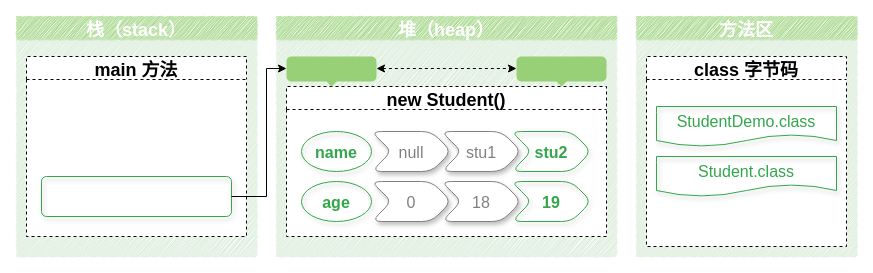
The diagram is 873 pixels wide and 273 high, and some of its shapes have lost their labels. The centre of each missing label's shape, as x and y in pixels:
0x0001: point 331,71
Student stu = 0x0001;: point 137,198
this: point 561,71
